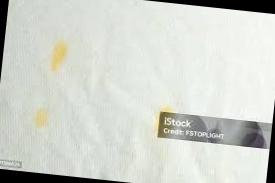mustard: (45, 37, 71, 74), (47, 47, 73, 82), (34, 110, 51, 128), (160, 104, 173, 113)
